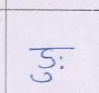u_matra: (31, 72, 53, 84)
